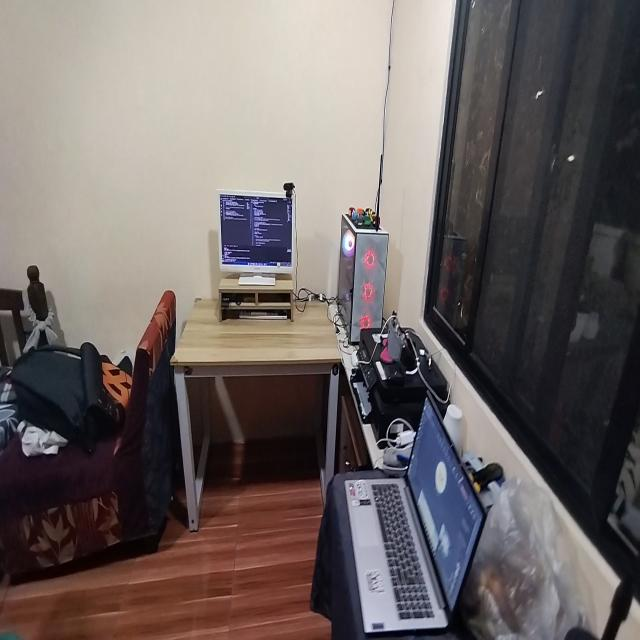table: (170, 289, 352, 528)
